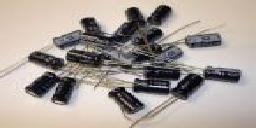Electrolytic-Capacitor: (96, 72, 142, 113), (54, 73, 82, 114), (181, 30, 232, 51), (134, 70, 175, 93), (66, 48, 108, 70), (29, 48, 66, 68), (55, 31, 84, 47)
